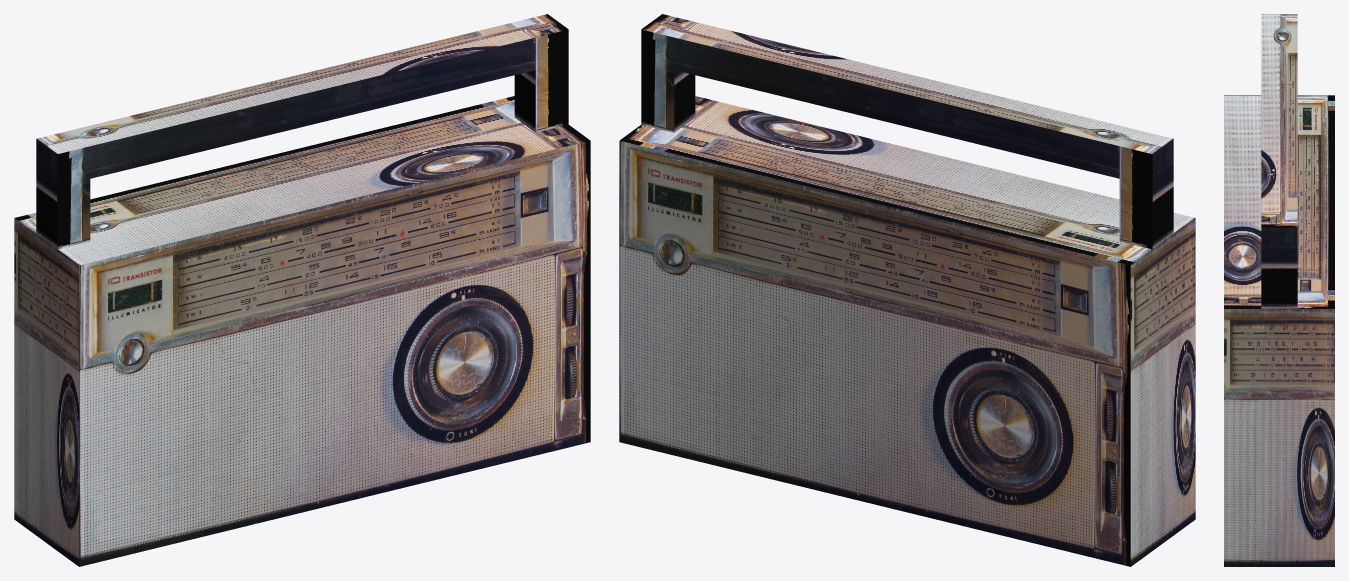
Rendered from radio.FBX.
3 views of the same model, side by side, from view 1: azimuth 30°, elevation 25°; view 2: azimuth 150°, elevation 25°; view 3: azimuth 270°, elevation 25° (orthographic). The views are drawn at different scales.
Visible parts, largest first — view 1: Box005; view 2: Box005; view 3: Box005.
Boxes of the visible parts, <box> form: Box005: <box>14,14,590,566</box>; Box005: <box>619,14,1195,566</box>; Box005: <box>1224,14,1334,566</box>.
Size of the model in its own units: 26.36 by 19.54 by 5.79.
1 material, 1 textured.
